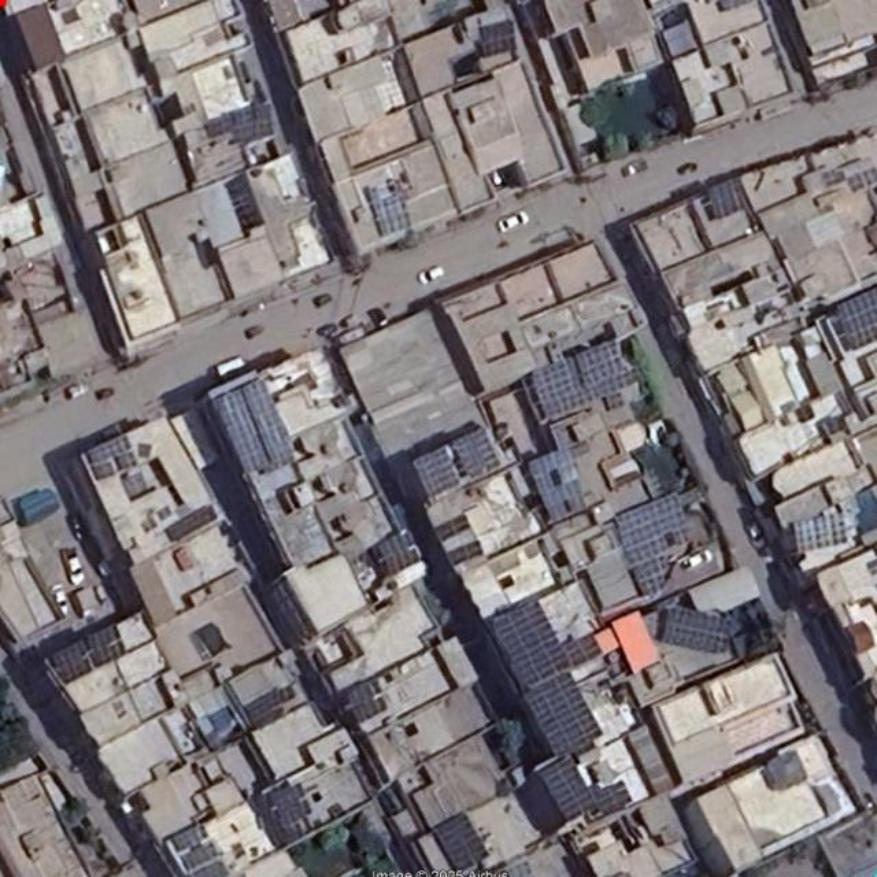Solarpanel: (490, 589, 603, 690), (529, 341, 642, 417), (214, 379, 291, 474), (524, 669, 601, 760), (413, 426, 497, 498), (50, 621, 129, 683), (619, 492, 687, 562), (529, 447, 586, 523), (537, 752, 597, 820), (434, 812, 489, 872), (664, 604, 730, 653), (838, 284, 876, 349), (630, 555, 674, 599), (164, 505, 216, 541), (795, 515, 844, 551), (379, 533, 419, 576), (349, 680, 384, 719), (483, 18, 515, 55), (712, 179, 743, 215), (183, 841, 216, 871), (450, 540, 481, 567), (436, 514, 470, 538), (174, 824, 208, 848), (195, 863, 228, 875)
